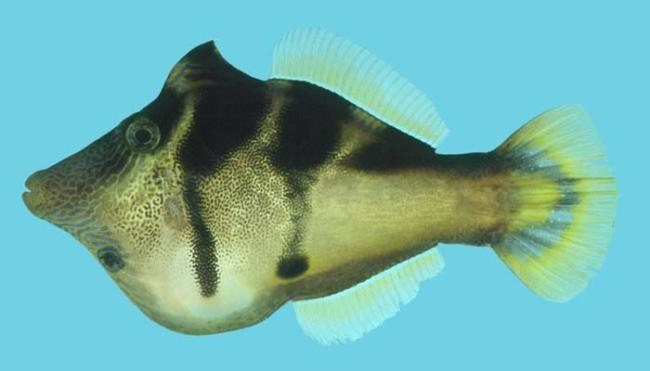fish: (23, 27, 618, 346)
